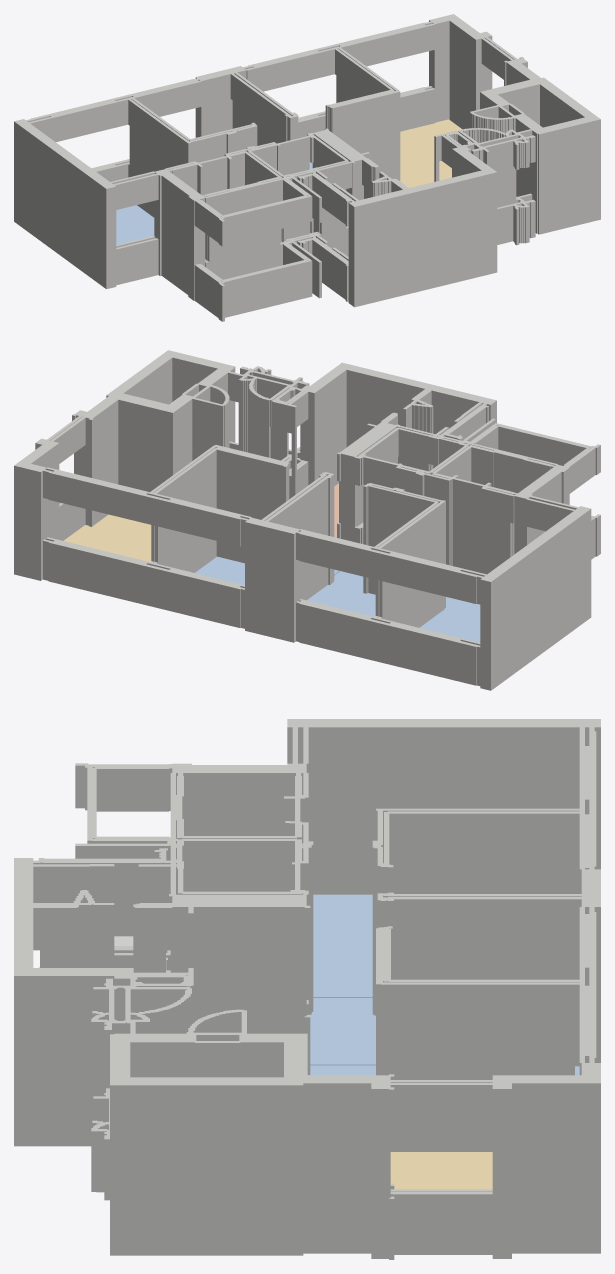
The picture shows the model from 3 angles, top to bottom: view 1: azimuth 30°, elevation 25°; view 2: azimuth 150°, elevation 25°; view 3: azimuth 270°, elevation 25°; orthographic projection. The views are drawn at different scales.
Parts seen in each view (by area): view 1: walls, room:living:4, room:bedroom:0; view 2: walls, room:living:4, room:bedroom:2, room:bedroom:0, room:bedroom:3; view 3: walls, room:bedroom:0, room:bedroom:2, room:living:4, room:bedroom:3.
Part boxes in pixels (box(x1,y1,x2,y2)): walls: box(14, 14, 600, 321); room:living:4: box(400, 119, 462, 187); room:bedroom:0: box(116, 205, 154, 244); walls: box(14, 350, 600, 690); room:living:4: box(63, 514, 151, 561); room:bedroom:2: box(307, 571, 375, 616); room:bedroom:0: box(419, 597, 480, 642); room:bedroom:3: box(195, 556, 339, 585); walls: box(14, 719, 600, 1259); room:bedroom:0: box(313, 894, 372, 997); room:bedroom:2: box(309, 997, 375, 1065); room:living:4: box(390, 1152, 492, 1189); room:bedroom:3: box(309, 1065, 579, 1075).
Bounding box in the file's own units: 13.07 × 2.8 × 8.75.
